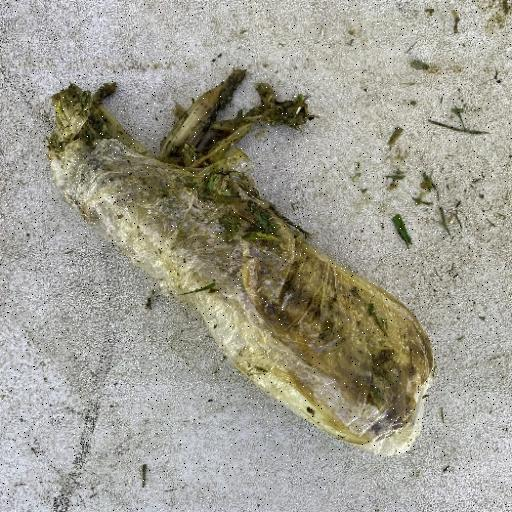Waste: (44, 68, 437, 458)
